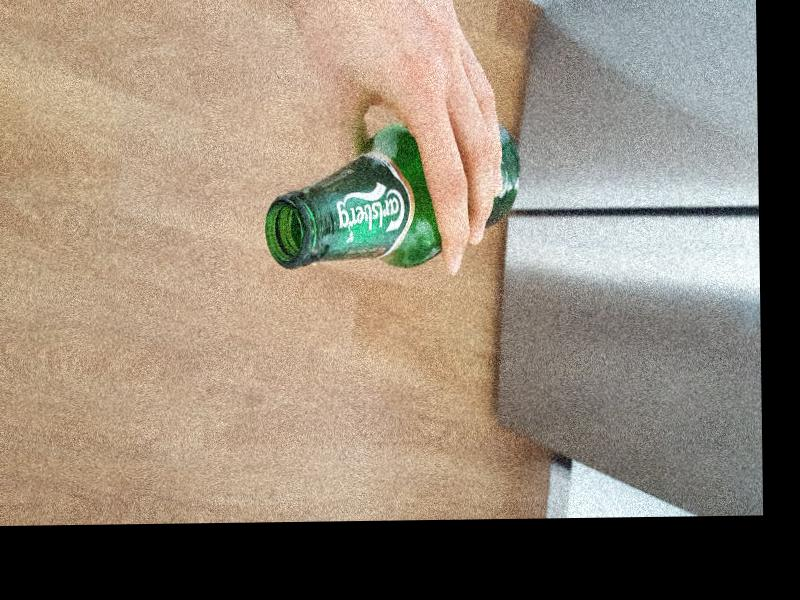Beer: (263, 122, 520, 268)
